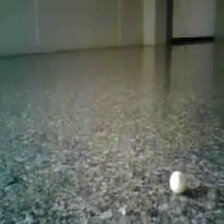w: (169, 170, 189, 194)
